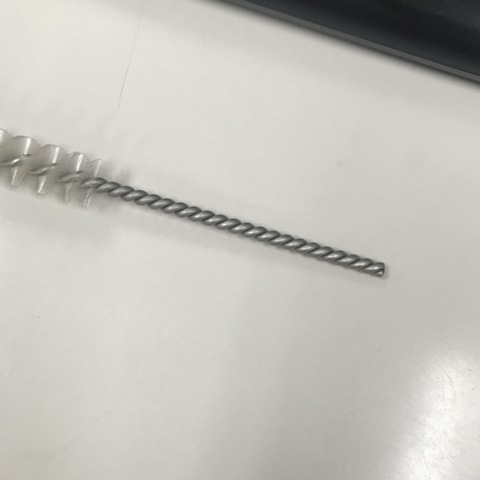Twist Brush-B: (1, 125, 381, 285)
